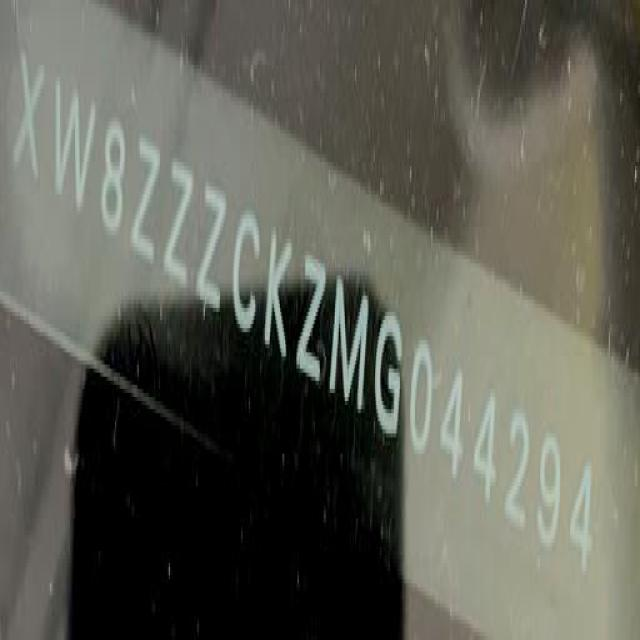0: (405, 329, 438, 461)
2: (502, 404, 536, 540)
4: (565, 446, 599, 576), (467, 379, 499, 511), (439, 366, 464, 488)
8: (96, 111, 131, 244)
9: (534, 422, 567, 558)
C: (229, 207, 263, 346)
G: (370, 296, 408, 446)
K: (261, 221, 296, 367)
M: (328, 275, 372, 414)
W: (47, 71, 99, 227)
X: (11, 40, 52, 203)
Z: (295, 244, 331, 396), (126, 128, 162, 274), (161, 154, 196, 296), (195, 175, 230, 317)
